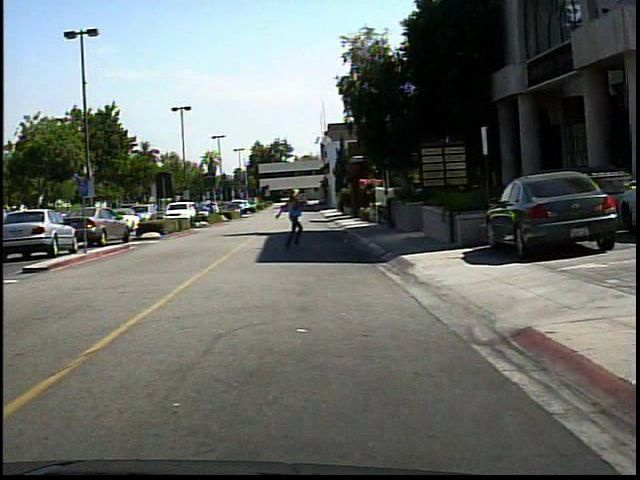person: (272, 185, 305, 251)
